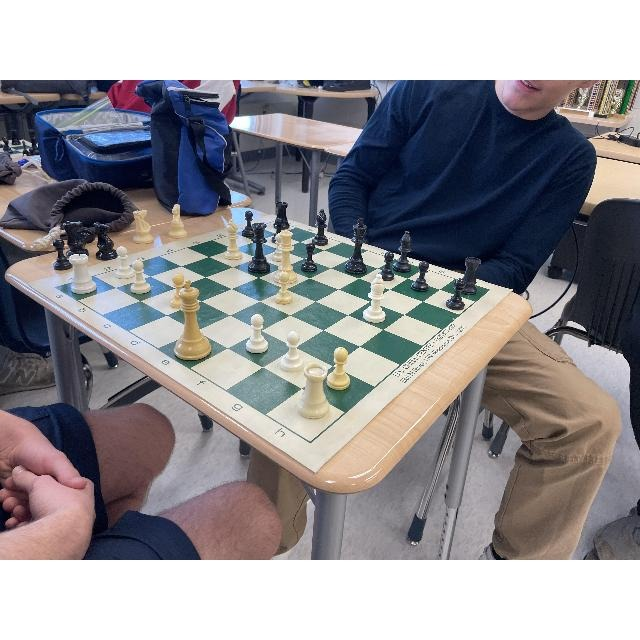black-pawn: (248, 224, 270, 274), (345, 233, 368, 273), (300, 236, 320, 271), (314, 213, 331, 246)
black-rook: (0, 477, 46, 526), (110, 83, 148, 108), (447, 274, 471, 306), (602, 127, 639, 147), (379, 249, 399, 282), (273, 202, 290, 231)
white-bishop: (175, 267, 205, 361)
white-pawn: (274, 267, 298, 312), (330, 345, 353, 389), (243, 314, 268, 354), (365, 278, 387, 323), (281, 332, 305, 372), (223, 228, 240, 270), (274, 228, 293, 265)
